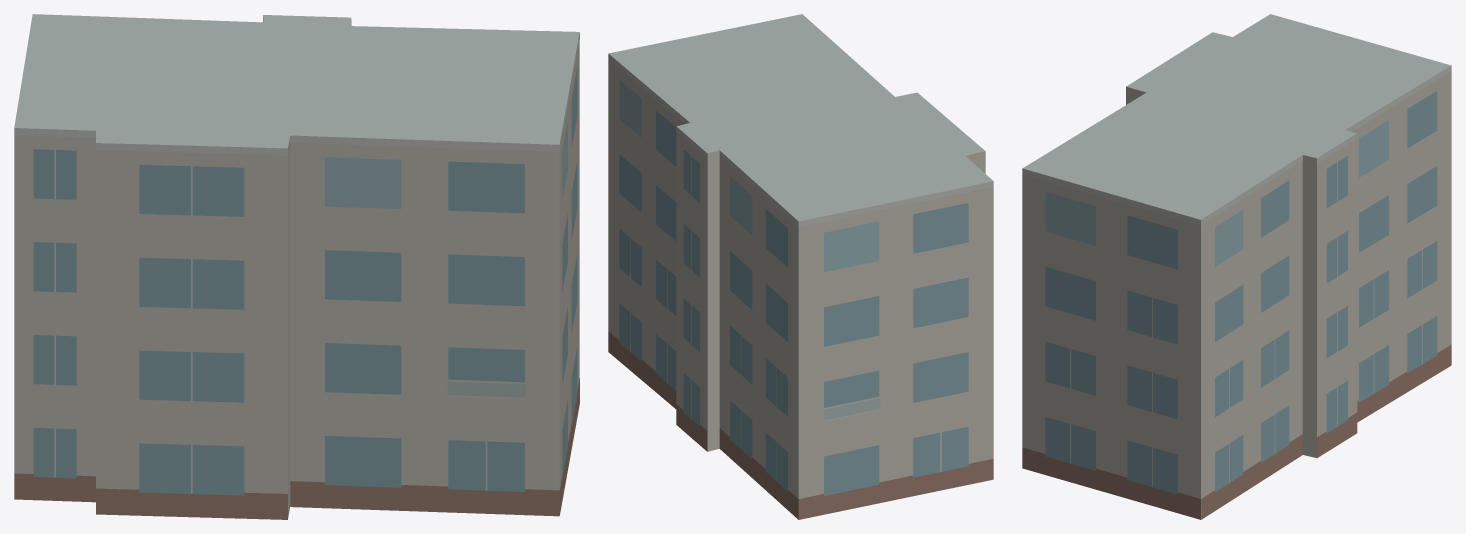
The model's file is survey-upis-33042745.glb.
3 views of the same model, side by side, from view 1: azimuth 30°, elevation 25°; view 2: azimuth 150°, elevation 25°; view 3: azimuth 270°, elevation 25° (orthographic). The views are drawn at different scales.
Visible parts, largest first — view 1: survey-upis-33042745.tmp; view 2: survey-upis-33042745.tmp; view 3: survey-upis-33042745.tmp.
Boxes of the visible parts, left/top/right/bottom form: survey-upis-33042745.tmp: left=14, top=14, right=579, bottom=519; survey-upis-33042745.tmp: left=608, top=14, right=993, bottom=519; survey-upis-33042745.tmp: left=1022, top=14, right=1451, bottom=519.
Size of the model in its own units: 18.85 by 12.8 by 16.61.
